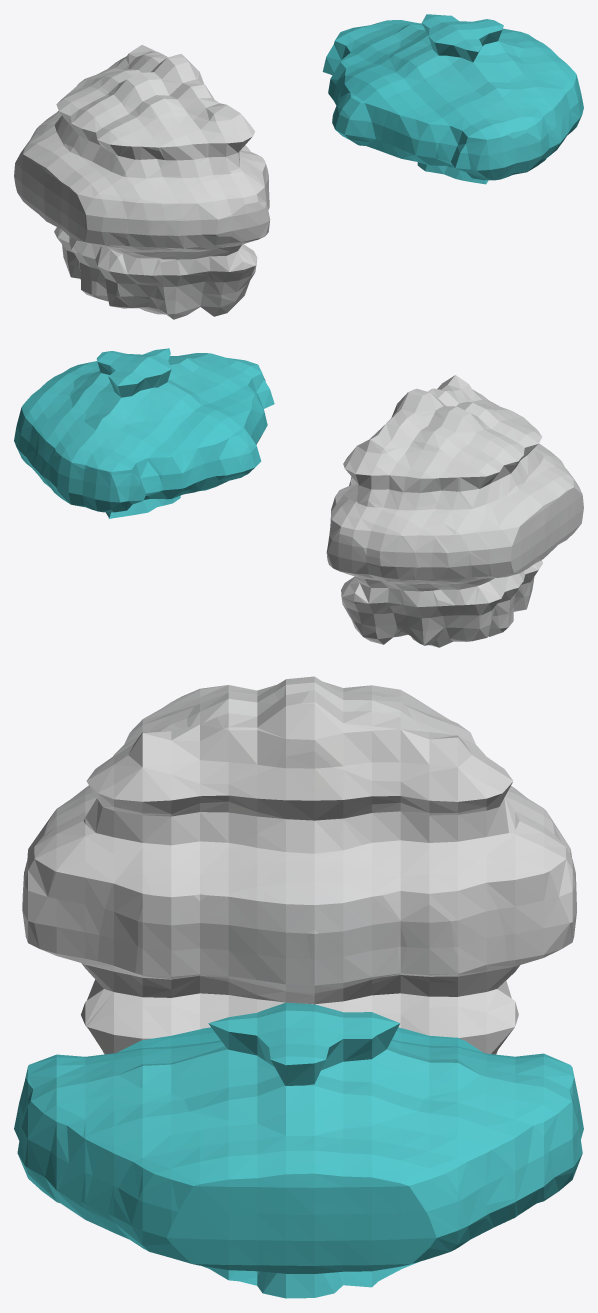
The picture shows the model from 3 angles, top to bottom: view 1: azimuth 30°, elevation 25°; view 2: azimuth 150°, elevation 25°; view 3: azimuth 270°, elevation 25°; orthographic projection. The views are drawn at different scales.
Visible parts, largest first — view 1: geometry_0; view 2: geometry_0; view 3: geometry_0.
Boxes of the visible parts, x1,y1,x2,y2 form: geometry_0: (14, 14, 583, 319); geometry_0: (14, 348, 583, 647); geometry_0: (14, 676, 583, 1298).
Bounding box in the file's own units: 1.59 × 0.7051 × 0.8463.
